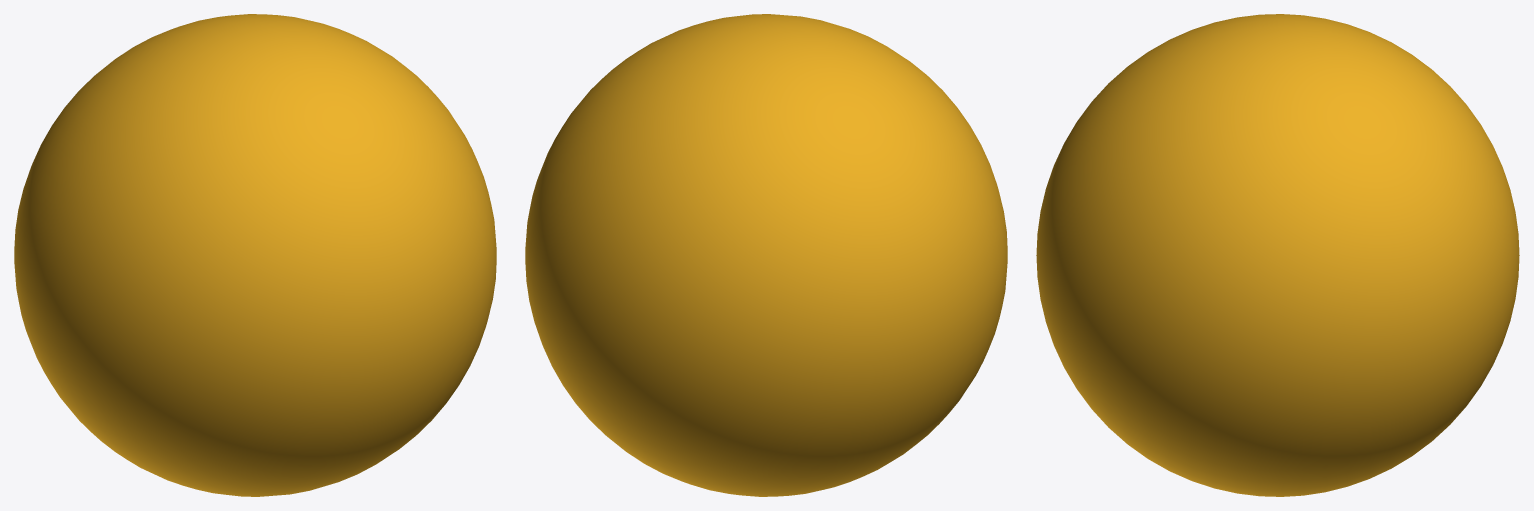
Rendered from ball.fbx.
3 renders of one model, left to right at view 1: azimuth 30°, elevation 25°; view 2: azimuth 150°, elevation 25°; view 3: azimuth 270°, elevation 25°, orthographic.
Parts seen in each view (by area): view 1: Body1; view 2: Body1; view 3: Body1.
Part boxes in pixels (x1,y1,x2,y2): Body1: (14, 14, 496, 496); Body1: (525, 14, 1007, 496); Body1: (1036, 14, 1519, 496).
Size of the model in its own units: 0.03 by 0.03 by 0.03.
